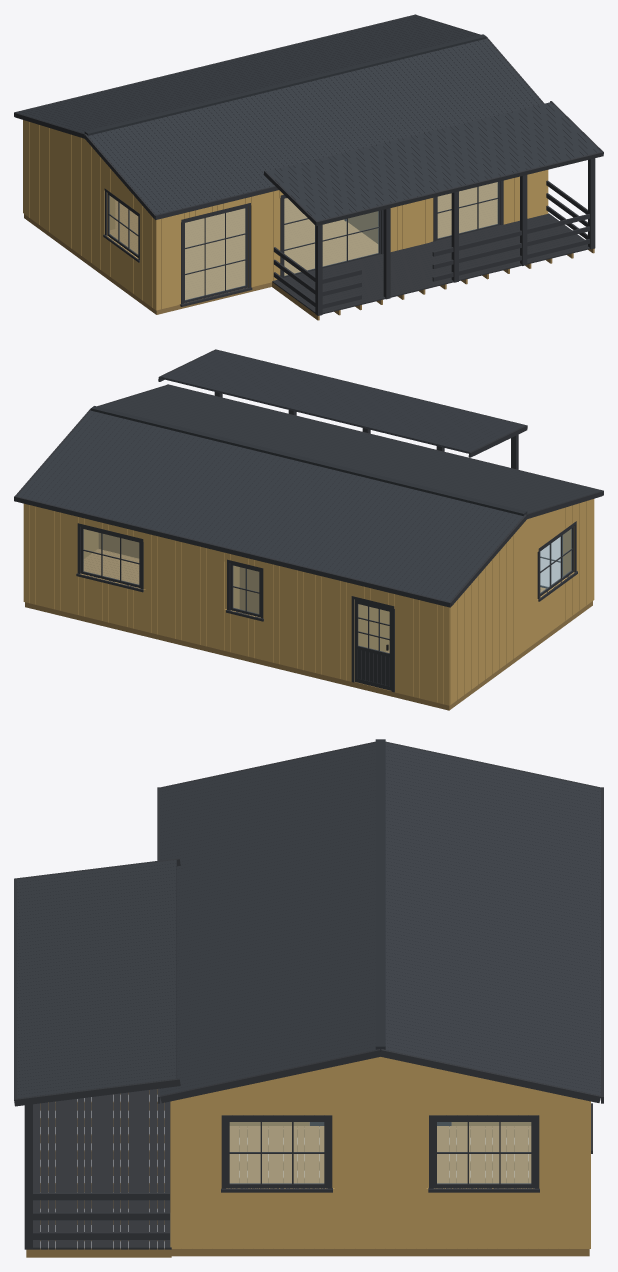
Rendered from септима_6_10_44_20_мм_терраса_13_9_м.glb.
The picture shows the model from 3 angles, top to bottom: view 1: azimuth 30°, elevation 25°; view 2: azimuth 150°, elevation 25°; view 3: azimuth 270°, elevation 25°; orthographic projection. The views are drawn at different scales.
Parts seen in each view (by area): view 1: roof, cladding, floor, deck, Септима + 6×10 (44+20 мм, терраса 13,9 м²), walls, object 95, object 108, object 121, object 179; view 2: roof, cladding, walls, Септима + 6×10 (44+20 мм, терраса 13,9 м²), object 156, floor, object 179, object 143, object 168, object 95; view 3: roof, cladding, deck, floor, Септима + 6×10 (44+20 мм, терраса 13,9 м²), walls, object 191, object 203.
Boxes of the visible parts, <box> form: roof: <box>14,14,603,226</box>; cladding: <box>23,120,548,310</box>; floor: <box>109,182,497,299</box>; deck: <box>272,213,589,314</box>; Септима + 6×10 (44+20 мм, терраса 13,9 м²): <box>24,180,594,320</box>; walls: <box>107,158,595,315</box>; object 95: <box>185,208,245,300</box>; object 108: <box>284,198,378,275</box>; object 121: <box>438,182,497,238</box>; object 179: <box>109,195,137,254</box>; roof: <box>14,349,603,607</box>; cladding: <box>23,499,594,705</box>; walls: <box>83,392,574,681</box>; Септима + 6×10 (44+20 мм, терраса 13,9 м²): <box>25,601,592,710</box>; object 156: <box>83,529,138,584</box>; floor: <box>83,549,545,652</box>; object 179: <box>540,529,571,593</box>; object 143: <box>358,604,389,653</box>; object 168: <box>233,565,258,613</box>; object 95: <box>540,537,560,586</box>; roof: <box>14,739,603,1106</box>; cladding: <box>170,1057,590,1248</box>; deck: <box>33,1089,171,1249</box>; floor: <box>229,1122,531,1183</box>; Септима + 6×10 (44+20 мм, терраса 13,9 м²): <box>26,1089,589,1257</box>; walls: <box>24,1058,589,1249</box>; object 191: <box>437,1122,530,1183</box>; object 203: <box>230,1122,323,1183</box>.
Size of the model in its own units: 10.11 by 3.23 by 8.12.
